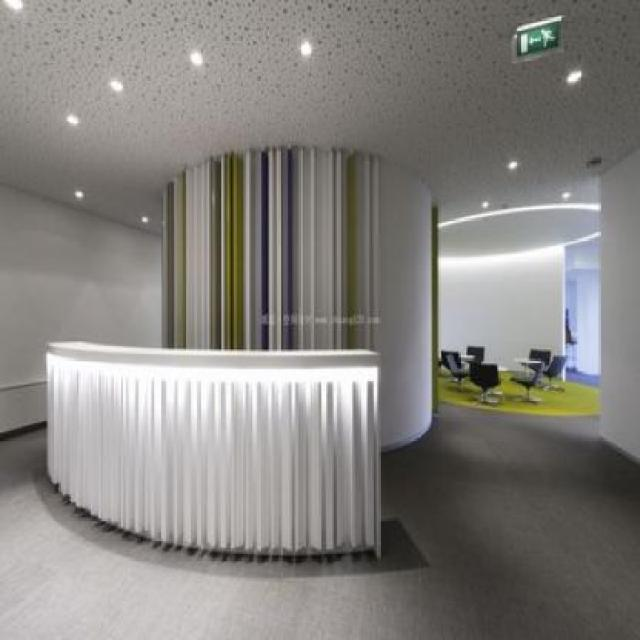frontdesk: (32, 326, 393, 567)
